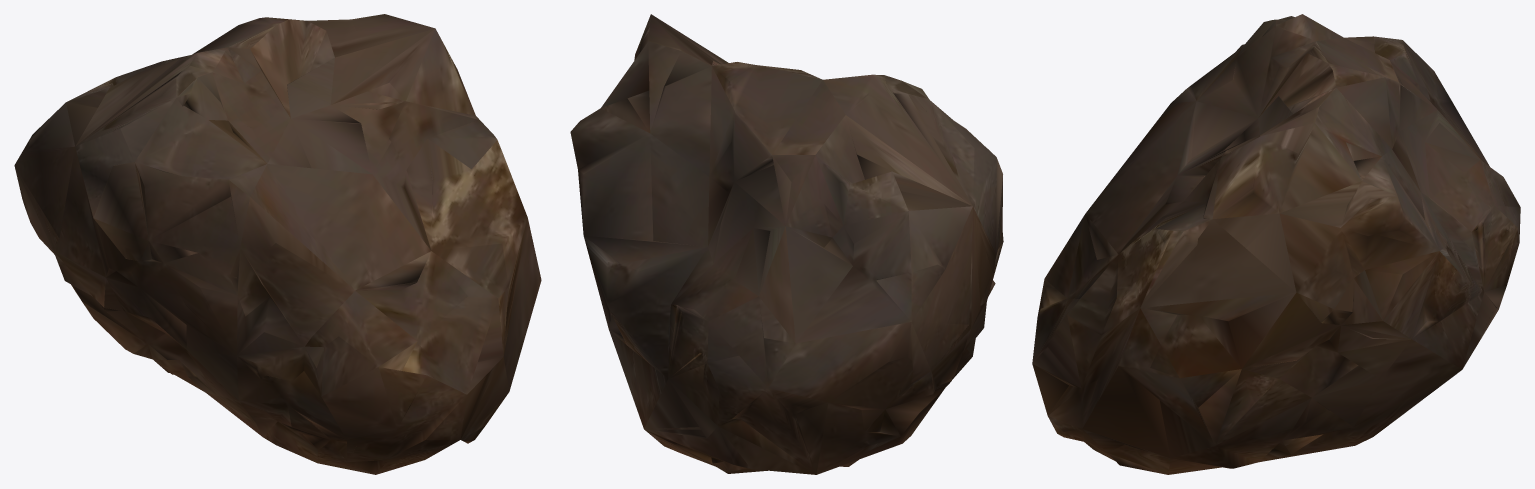
Rendered from rock-arid-basalt.glb.
3 views of the same model, side by side, from view 1: azimuth 30°, elevation 25°; view 2: azimuth 150°, elevation 25°; view 3: azimuth 270°, elevation 25° (orthographic). The views are drawn at different scales.
Visible parts, largest first — view 1: tripo_node_dad0d542-1d96-44b8-a292-048c81de014d; view 2: tripo_node_dad0d542-1d96-44b8-a292-048c81de014d; view 3: tripo_node_dad0d542-1d96-44b8-a292-048c81de014d.
Part boxes in pixels (box(x1,y1,x2,y2)): tripo_node_dad0d542-1d96-44b8-a292-048c81de014d: box(14, 14, 541, 474); tripo_node_dad0d542-1d96-44b8-a292-048c81de014d: box(570, 14, 1003, 474); tripo_node_dad0d542-1d96-44b8-a292-048c81de014d: box(1032, 14, 1520, 474).
Size of the model in its own units: 0.9323 by 0.9 by 1.02.
1 material, 1 textured.
